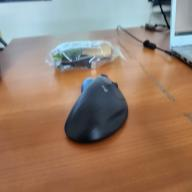Mouse: (62, 72, 129, 146)
